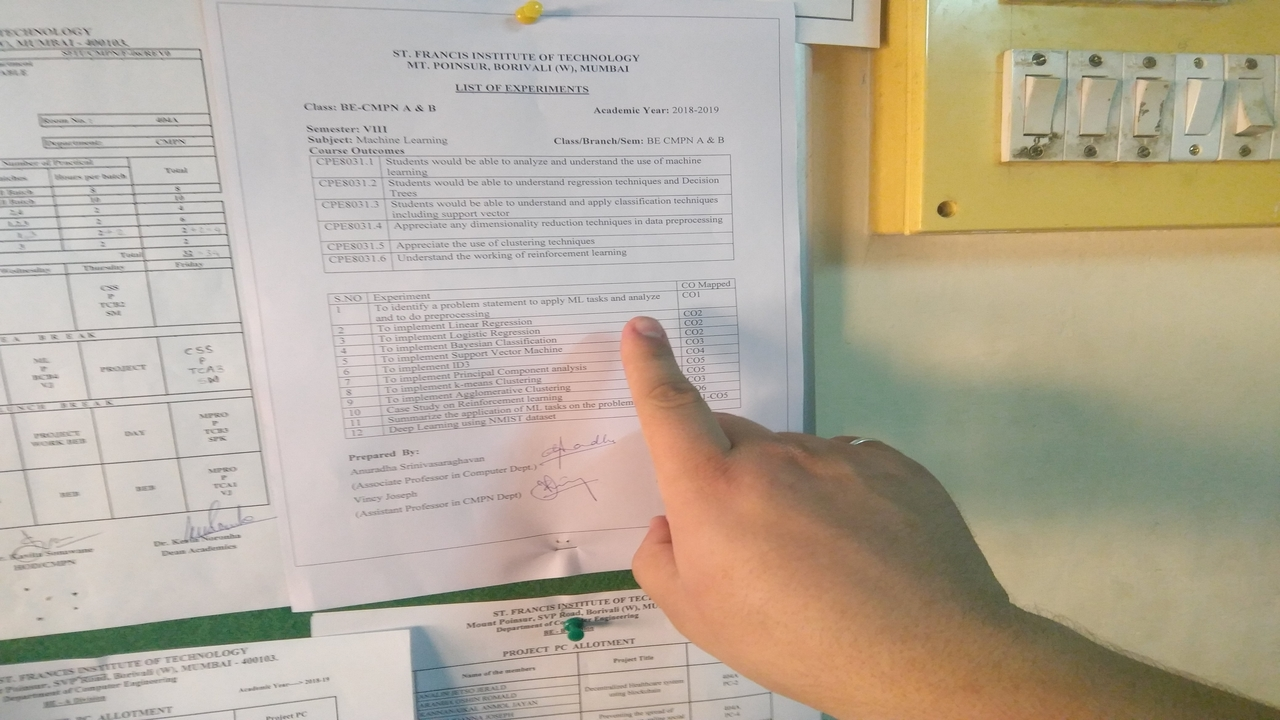fingertip: (616, 314, 672, 372)
